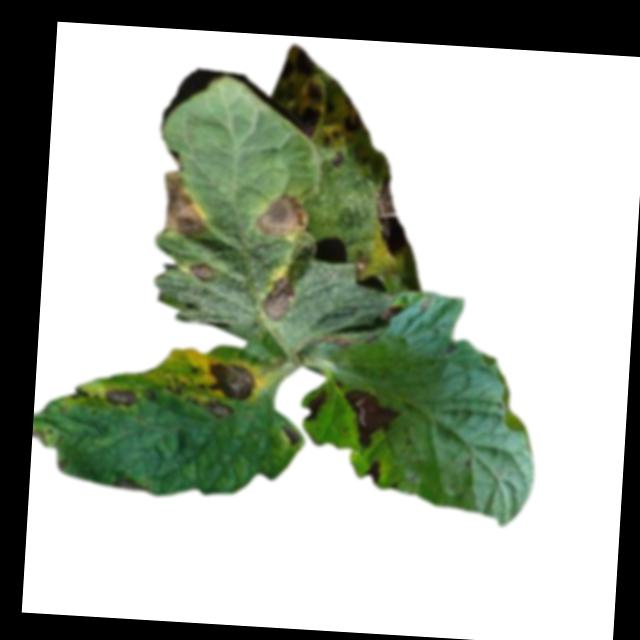Early_blight: (157, 171, 212, 239), (339, 390, 401, 450), (371, 174, 411, 257), (274, 42, 327, 103), (198, 357, 257, 401), (256, 191, 308, 239), (258, 274, 297, 324), (296, 105, 321, 141), (341, 93, 364, 132), (301, 390, 325, 423), (104, 386, 138, 409), (312, 332, 354, 350), (188, 260, 216, 285), (202, 400, 236, 420), (375, 304, 401, 326), (111, 478, 151, 492), (365, 458, 383, 486), (70, 385, 91, 404)
